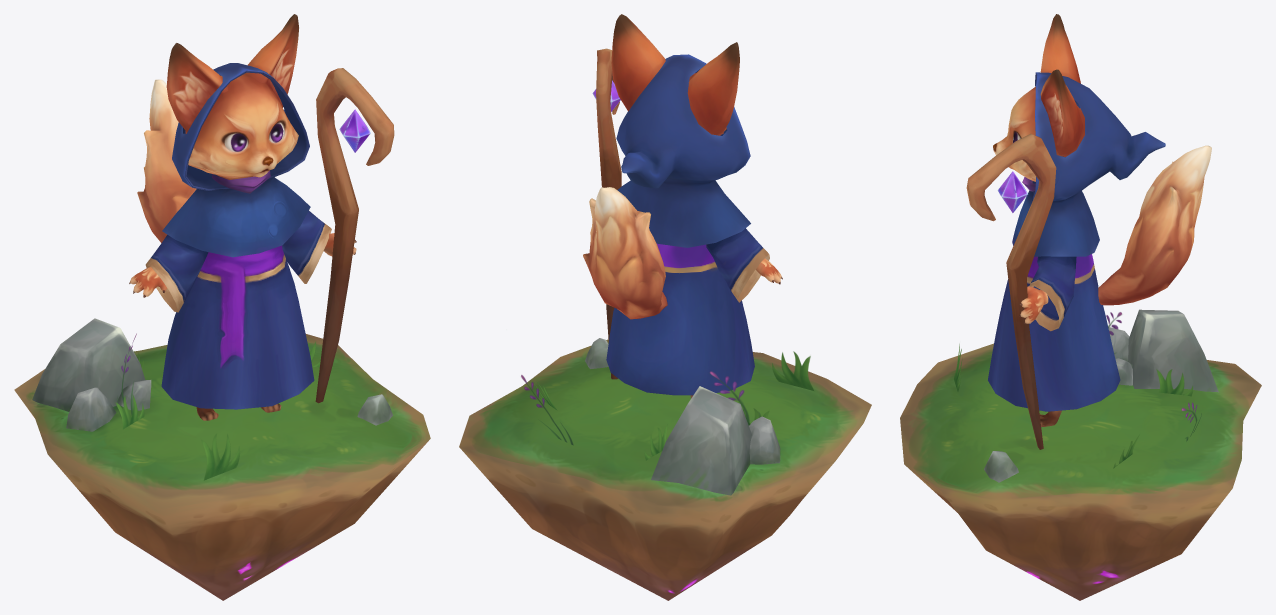
Rendered from wizard_fox.glb.
3 renders of one model, left to right at view 1: azimuth 30°, elevation 25°; view 2: azimuth 150°, elevation 25°; view 3: azimuth 270°, elevation 25°, orthographic. The views are drawn at different scales.
Visible parts, largest first — view 1: gROUND, FOX, Cube4, polySurface7, Cylinder; view 2: gROUND, FOX, Cube4; view 3: gROUND, FOX, Cube4, polySurface7.
Part boxes in pixels (bbox=[...]): gROUND: bbox=[14, 318, 430, 600]; FOX: bbox=[129, 14, 356, 420]; Cube4: bbox=[315, 68, 394, 403]; polySurface7: bbox=[339, 109, 370, 152]; Cylinder: bbox=[212, 170, 270, 193]; gROUND: bbox=[459, 338, 871, 600]; FOX: bbox=[583, 14, 782, 398]; Cube4: bbox=[596, 48, 621, 379]; gROUND: bbox=[900, 309, 1261, 600]; FOX: bbox=[988, 14, 1211, 426]; Cube4: bbox=[966, 133, 1056, 449]; polySurface7: bbox=[997, 171, 1027, 212].
Size of the model in its own units: 130 by 216 by 127.
3 materials, 3 textured.
